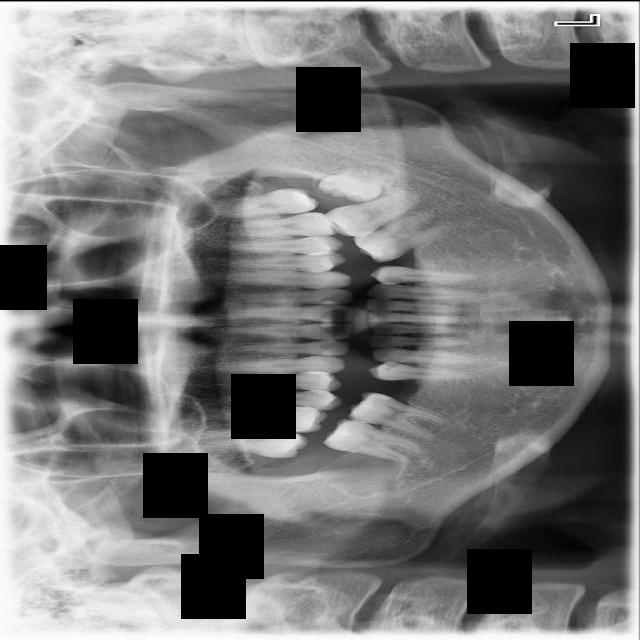52: (317, 403, 381, 461), (352, 221, 414, 268), (347, 388, 404, 429), (265, 186, 320, 214), (302, 321, 352, 340), (298, 389, 343, 410), (296, 371, 341, 391), (304, 287, 353, 304), (303, 305, 354, 321), (305, 339, 349, 355)
73: (544, 75, 554, 79)
BioHorizons Implant: (207, 185, 319, 220)
Biomet 3i Implant: (316, 159, 389, 207)
Blue Sky Bio Implant: (321, 189, 417, 243)
Caries: (203, 430, 308, 457)
Implant: (322, 413, 429, 468)
